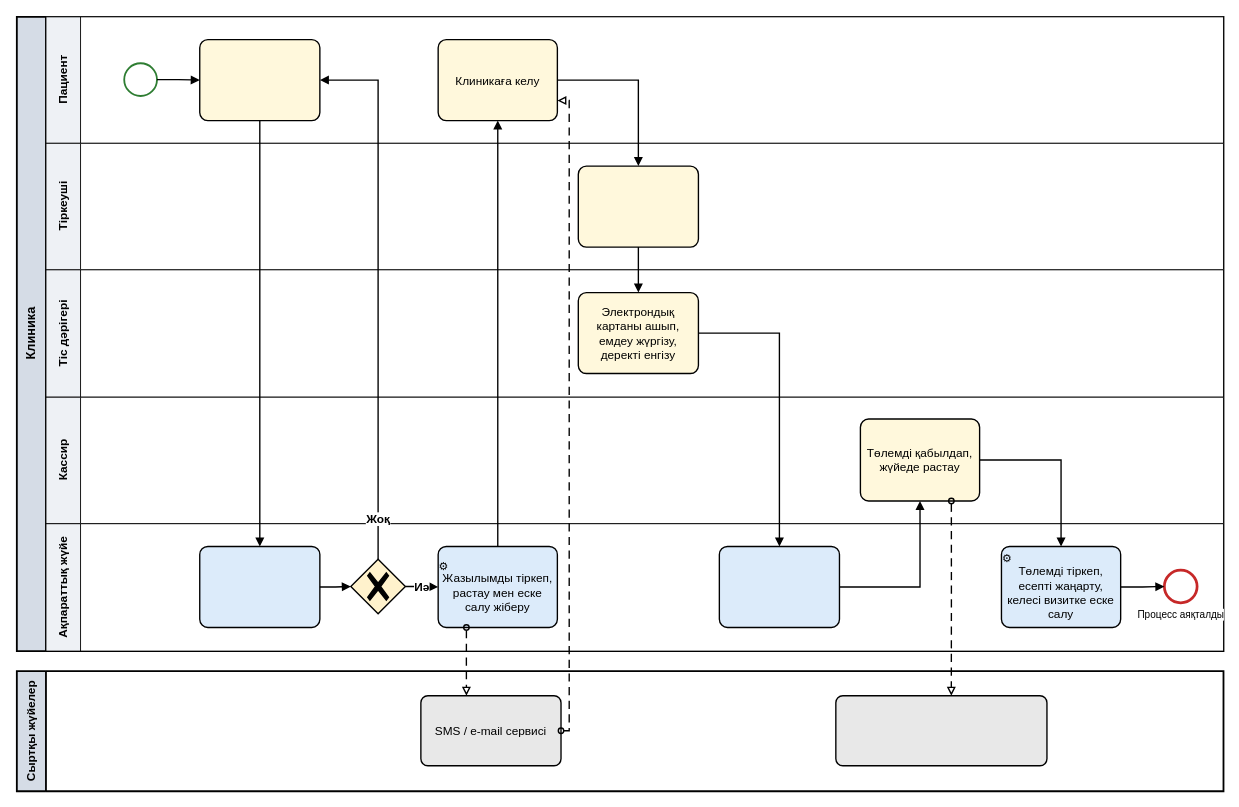
Image size: 1239x807. Some labels were removed from this diagram. Each missing label, with the centre of its shape:
Бос уақыт бар ма?: (x=378, y=586)
Пациент келгенін жүйеде белгілеу: (x=638, y=206)
Пациентке ем қажет: (x=140, y=79)
Сайтта немесе қосымшада дәрігер мен уақытты таңдау: (x=259, y=79)
Төлем терминалы / онлайн-төлем жүйесі: (x=941, y=730)
⚙ Бос уақытты автоматты тексеру: (x=259, y=586)
⚙ Шотты автоматты қалыптастыру: (x=779, y=586)
